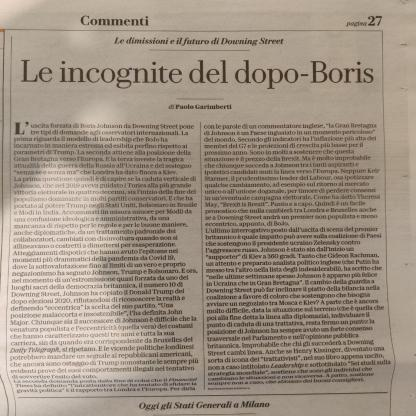testo_col: (7, 116, 204, 396), (202, 115, 396, 390)
titolo: (13, 48, 379, 92)
